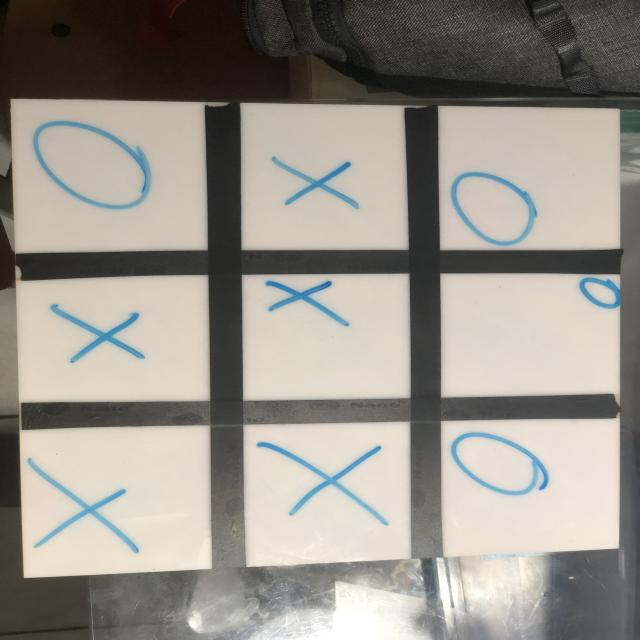o: (33, 118, 151, 213), (446, 170, 540, 251), (450, 430, 546, 498), (579, 277, 619, 314)
table: (10, 98, 618, 579)
x: (258, 438, 396, 526), (25, 458, 141, 557), (266, 152, 367, 216), (50, 305, 151, 367), (263, 279, 354, 331)
